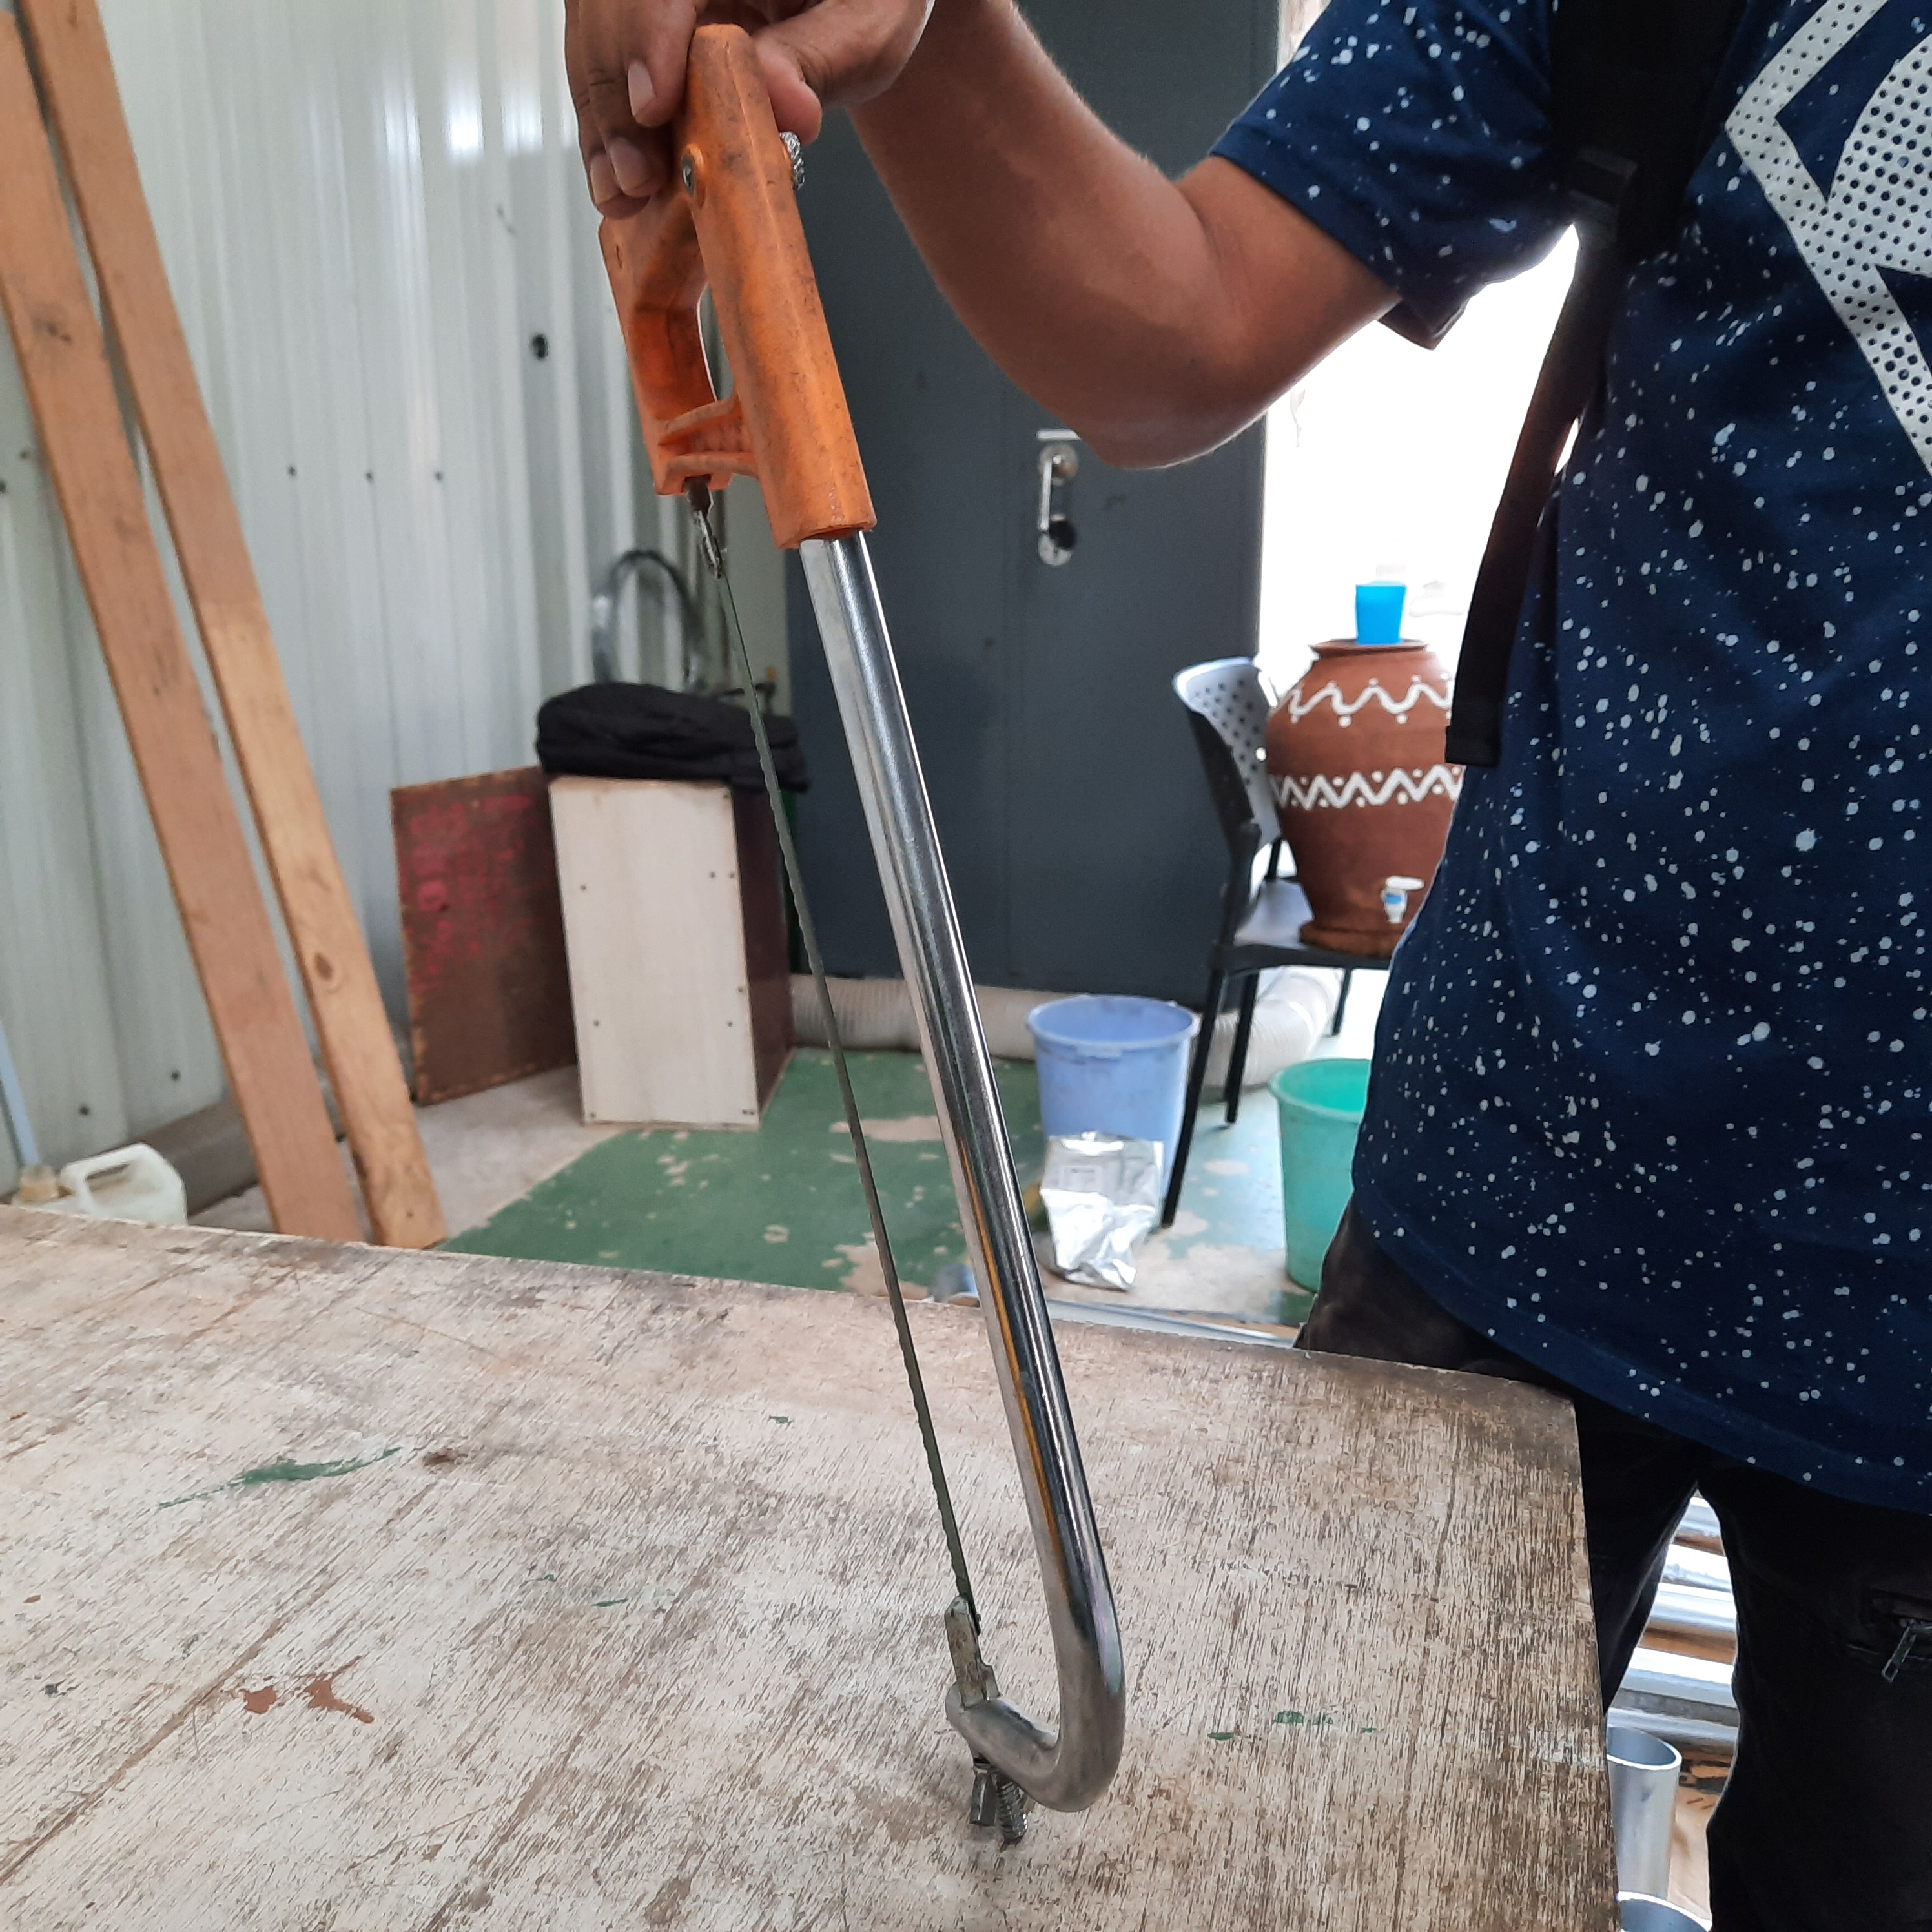Hexaframe: (479, 34, 1212, 1870)
